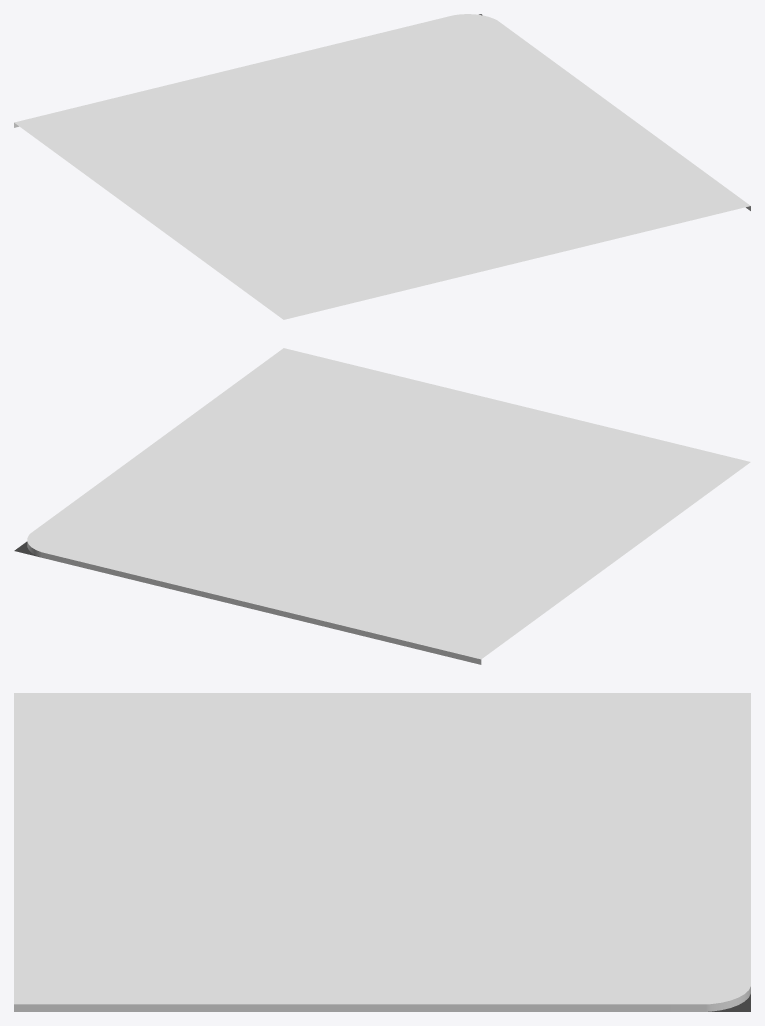
File: pavement intersection edge.fbx
3 views of the same model, one above another, from view 1: azimuth 30°, elevation 25°; view 2: azimuth 150°, elevation 25°; view 3: azimuth 270°, elevation 25° (orthographic). The views are drawn at different scales.
Parts seen in each view (by area): view 1: pavement_intersection_edge; view 2: pavement_intersection_edge; view 3: pavement_intersection_edge.
Part boxes in pixels (left/top/right/bottom): pavement_intersection_edge: left=14, top=14, right=750, bottom=319; pavement_intersection_edge: left=14, top=348, right=750, bottom=664; pavement_intersection_edge: left=14, top=693, right=750, bottom=1011.
Size of the model in its own units: 1000 by 11.2 by 1000.
